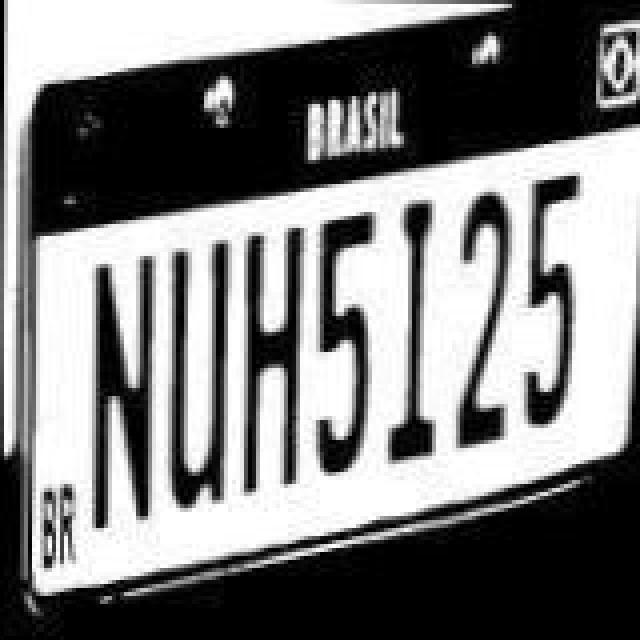2: (444, 176, 520, 460)
5: (310, 198, 382, 482), (520, 166, 588, 434)
H: (236, 216, 312, 504)
I: (380, 186, 448, 474)
N: (86, 246, 162, 554)
U: (158, 228, 234, 528)
